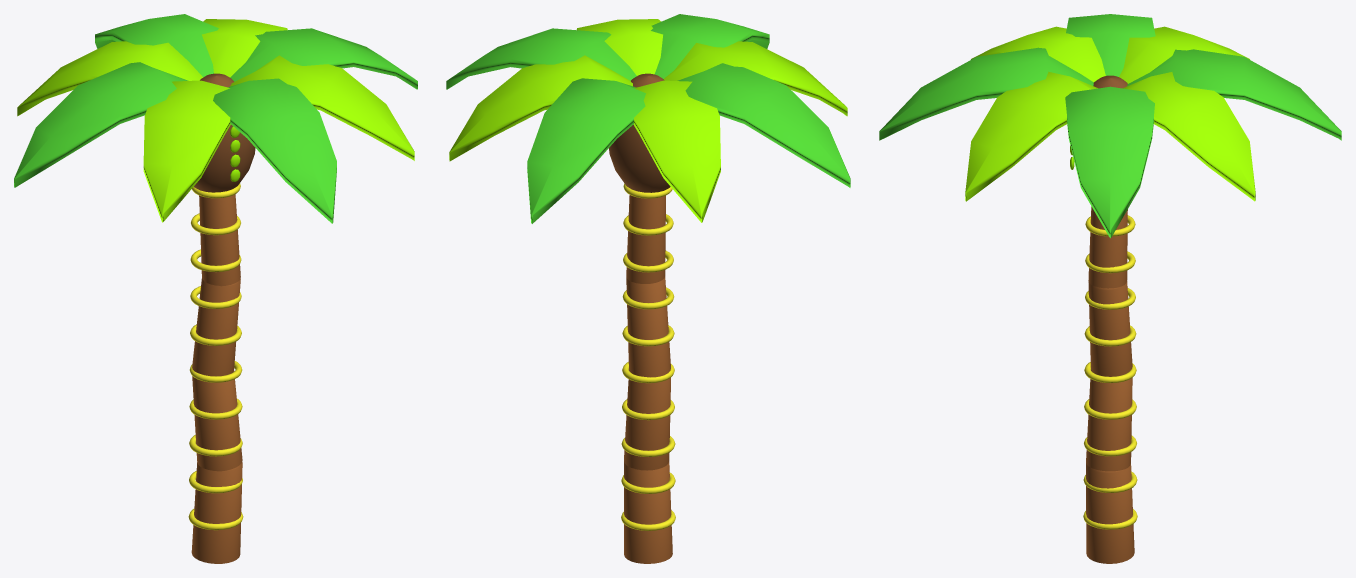
Rendered from palmier_greenhill 1.glb.
The picture shows the model from 3 angles, left to right: view 1: azimuth 30°, elevation 25°; view 2: azimuth 150°, elevation 25°; view 3: azimuth 270°, elevation 25°; orthographic projection.
Parts seen in each view (by area): view 1: Frond_3, Frond_5, Frond_4, Frond_2, Frond_1, Frond_6, Trunk_1, Trunk_2, Frond_7, Trunk_3, Trunk_4, Frond_8 (+1 smaller); view 2: Frond_7, Frond_5, Frond_6, Frond_8, Frond_1, Frond_4, Trunk_1, Frond_3, Trunk_3, Trunk_2, Trunk_4, Crown (+1 smaller); view 3: Frond_1, Frond_2, Frond_8, Frond_3, Frond_7, Trunk_1, Trunk_2, Trunk_3, Frond_5, Frond_4, Frond_6, Trunk_4.
Part boxes in pixels (x1,y1,x2,y2): Frond_3: (213, 78, 336, 223); Frond_5: (14, 62, 188, 187); Frond_4: (143, 80, 230, 222); Frond_2: (230, 55, 414, 160); Frond_1: (230, 28, 417, 89); Frond_6: (17, 41, 202, 116); Trunk_1: (191, 462, 242, 563); Trunk_2: (192, 370, 242, 471); Frond_7: (95, 14, 218, 77); Trunk_3: (192, 278, 240, 376); Trunk_4: (199, 194, 240, 286); Frond_8: (202, 19, 287, 77); Frond_7: (527, 78, 645, 223); Frond_5: (677, 63, 850, 187); Frond_6: (633, 80, 720, 222); Frond_8: (449, 55, 632, 161); Frond_1: (446, 28, 636, 89); Frond_4: (664, 41, 847, 116); Trunk_1: (624, 461, 672, 563); Frond_3: (651, 14, 769, 78); Trunk_3: (626, 276, 670, 377); Trunk_2: (624, 378, 670, 470); Trunk_4: (626, 195, 665, 283); Crown: (609, 73, 670, 192); Frond_1: (1065, 86, 1154, 238); Frond_2: (965, 71, 1097, 201); Frond_8: (1123, 72, 1255, 201); Frond_3: (879, 47, 1093, 140); Frond_7: (1127, 49, 1341, 140); Trunk_1: (1086, 463, 1134, 563); Trunk_2: (1086, 370, 1132, 471); Trunk_3: (1088, 281, 1132, 376); Frond_5: (1066, 14, 1155, 76); Frond_4: (971, 26, 1105, 82); Frond_6: (1119, 26, 1249, 83); Trunk_4: (1088, 206, 1127, 288).
Bounding box in the file's own units: 3.44 × 4.06 × 3.44.
